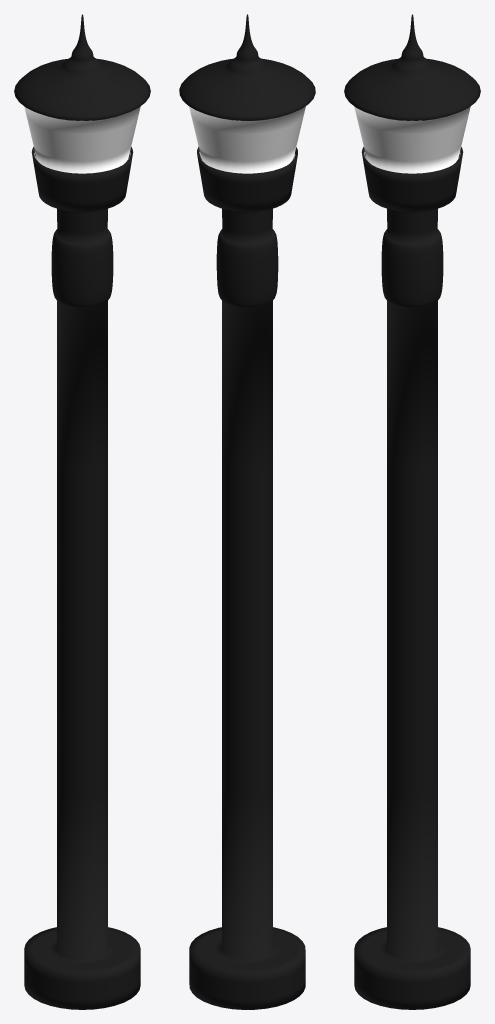
The model's file is asia_style_2_street_light.glb.
The picture shows the model from 3 angles, left to right: view 1: azimuth 90°, elevation 25°; view 2: azimuth 210°, elevation 25°; view 3: azimuth 270°, elevation 25°; orthographic projection.
Parts seen in each view (by area): view 1: Circle_0; view 2: Circle_0; view 3: Circle_0.
Part boxes in pixels (x1=…): Circle_0: x1=14, y1=14, x2=150, y2=1009; Circle_0: x1=179, y1=14, x2=315, y2=1009; Circle_0: x1=344, y1=14, x2=480, y2=1009.
Bounding box in the file's own units: 1.06 × 8.3 × 1.06.
2 materials, 2 textured.
